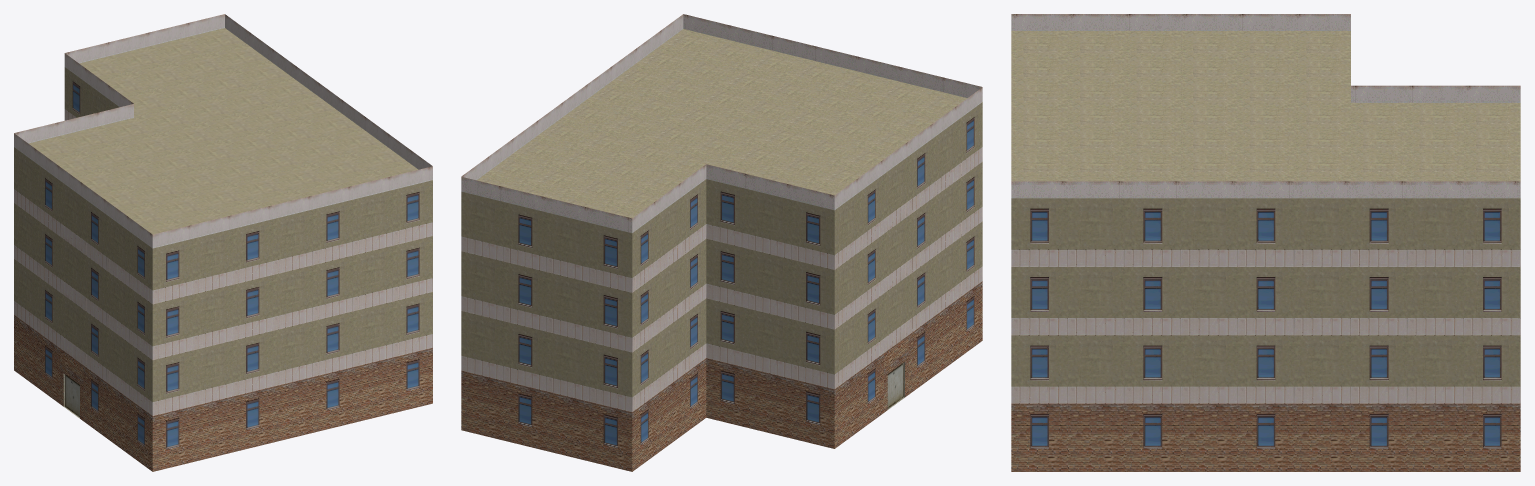
The model's file is flat_Lshape.glb.
3 renders of one model, left to right at view 1: azimuth 30°, elevation 25°; view 2: azimuth 150°, elevation 25°; view 3: azimuth 270°, elevation 25°, orthographic. The views are drawn at different scales.
Parts seen in each view (by area): view 1: flat_Lshape; view 2: flat_Lshape; view 3: flat_Lshape.
Part boxes in pixels (x1,y1,x2,y2): flat_Lshape: [14, 14, 432, 471]; flat_Lshape: [461, 14, 982, 471]; flat_Lshape: [1011, 14, 1520, 471].
Size of the model in its own units: 21 by 17 by 27.
1 material, 1 textured.
